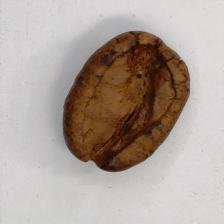NG: (83, 41, 169, 153)
